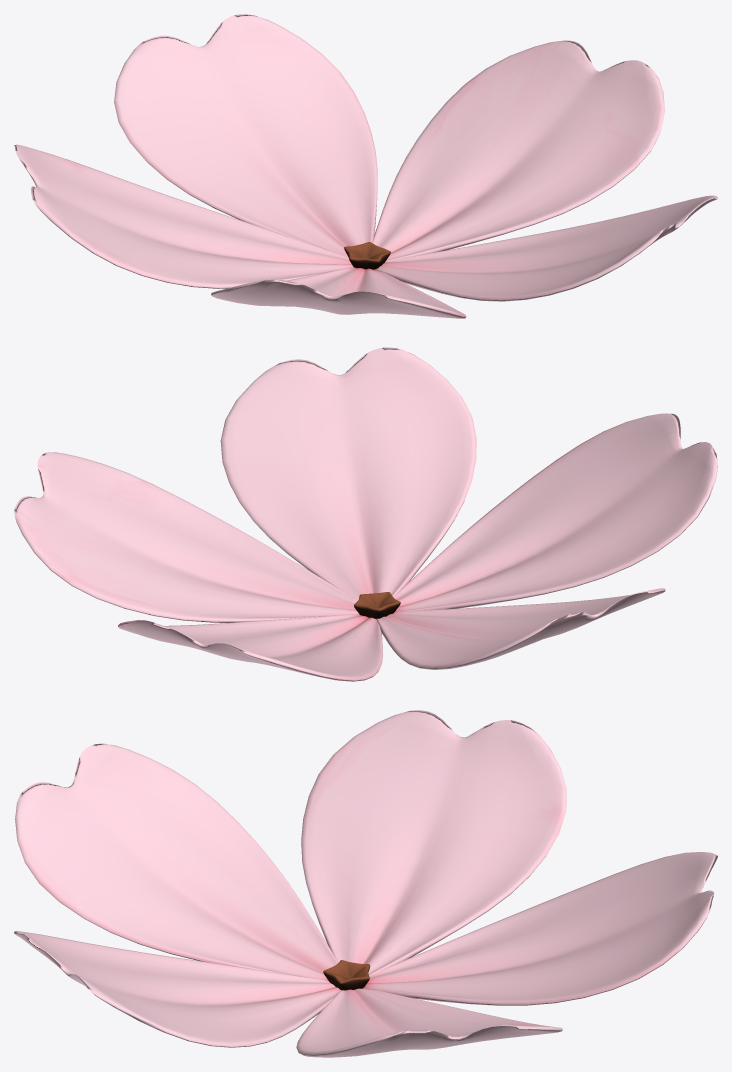
File: sakura.glb
The picture shows the model from 3 angles, top to bottom: view 1: azimuth 30°, elevation 25°; view 2: azimuth 150°, elevation 25°; view 3: azimuth 270°, elevation 25°; orthographic projection. The views are drawn at different scales.
Visible parts, largest first — view 1: Sakura; view 2: Sakura; view 3: Sakura.
Part boxes in pixels (box(x1,y1,x2,y2)): Sakura: box(14, 14, 717, 318); Sakura: box(14, 347, 717, 681); Sakura: box(14, 710, 717, 1057).
Size of the model in its own units: 0.0933 by 0.0195 by 0.0899.
1 material, 1 textured.
